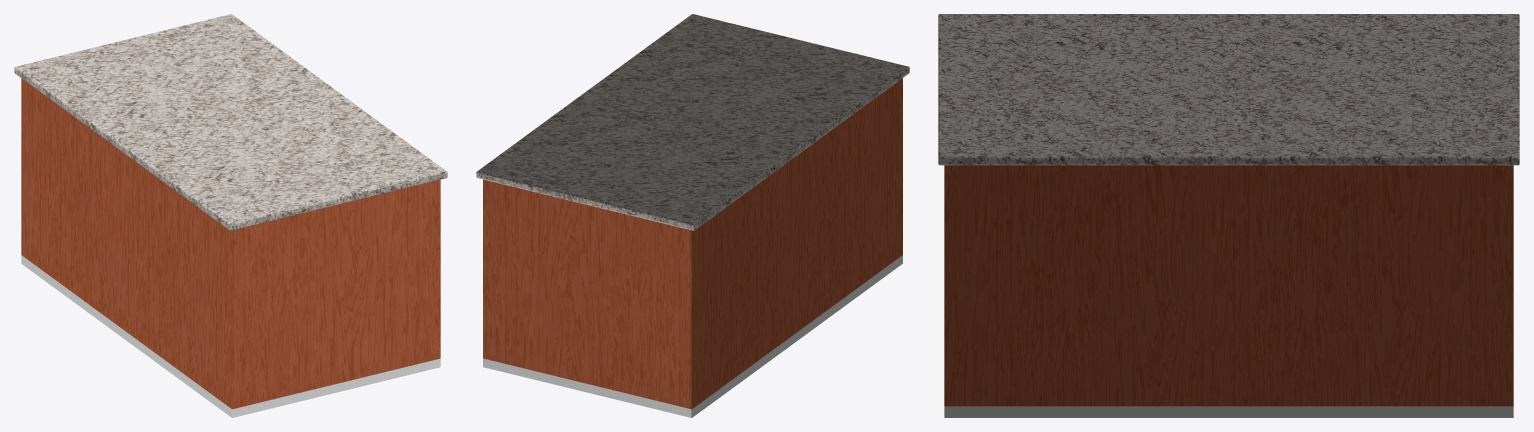
The model's file is StandardIslandHeight1_614ab5b5.obj.
3 views of the same model, side by side, from view 1: azimuth 30°, elevation 25°; view 2: azimuth 150°, elevation 25°; view 3: azimuth 270°, elevation 25° (orthographic). The views are drawn at different scales.
Parts seen in each view (by area): view 1: StandardIslandHeight1_614ab5b5; view 2: StandardIslandHeight1_614ab5b5; view 3: StandardIslandHeight1_614ab5b5.
Part boxes in pixels (bbox=[...]): StandardIslandHeight1_614ab5b5: bbox=[14, 14, 447, 417]; StandardIslandHeight1_614ab5b5: bbox=[476, 14, 909, 417]; StandardIslandHeight1_614ab5b5: bbox=[938, 14, 1519, 417].
Bounding box in the file's own units: 1.05 × 0.9 × 1.8.
